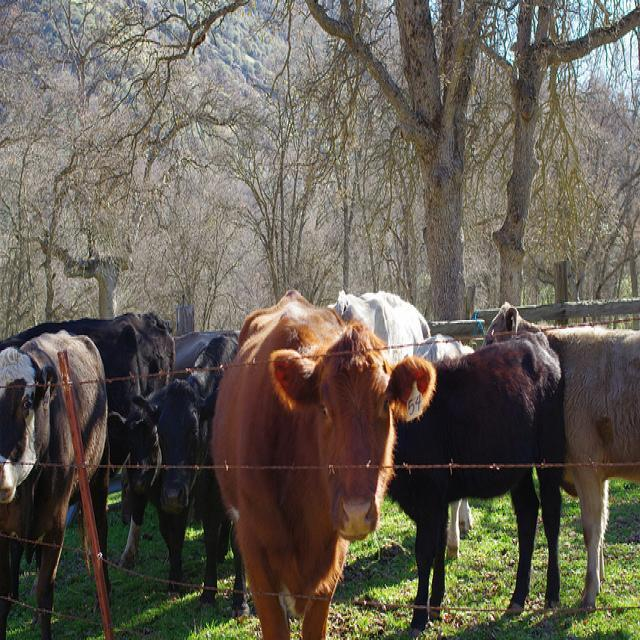cow: (211, 285, 437, 631), (387, 329, 565, 631), (475, 304, 639, 612), (0, 329, 109, 639), (153, 334, 236, 604), (0, 314, 173, 418), (105, 381, 176, 571), (329, 292, 427, 360), (171, 329, 233, 376)
